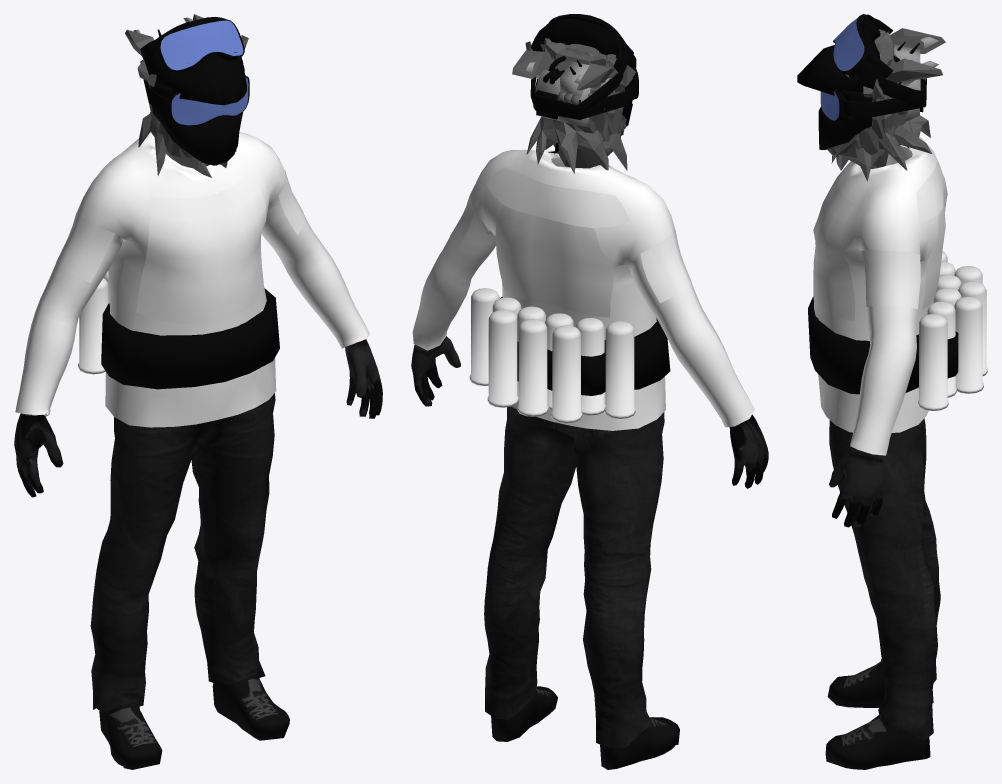
File: PlayerCharacter-Web-01.glb
3 renders of one model, left to right at view 1: azimuth 30°, elevation 25°; view 2: azimuth 150°, elevation 25°; view 3: azimuth 270°, elevation 25°, orthographic.
Parts seen in each view (by area): view 1: Body-Legs, Body-Torso, Front-Logo, Podpack-Belt, Mask-Lifted-Mask, Mask-Lifted-Lens, Mask-On-Mask, Right-Arm-Logo, Pod9, Mask-On-Lens, Octopus, Left-Arm-Logo; view 2: Body-Legs, Body-Torso, Back-Logo, Player-Name, Pod5, Pod6, Pod9, Pod7, Octopus, Right-Arm-Logo, Mask-Lifted-Lens, Antenna-Box (+11 smaller); view 3: Body-Legs, Body-Torso, Front-Logo, Podpack-Belt, Left-Arm-Logo, Pod8, Pod5, Mask-Lifted-Mask, Octopus, Mask-Lifted-Lens, Rabbit, Mask-On-Mask (+13 smaller).
Boxes of the visible parts, x1=… form: Body-Legs: x1=14, y1=339, x2=382, y2=769; Body-Torso: x1=15, y1=132, x2=369, y2=427; Front-Logo: x1=136, y1=173, x2=266, y2=323; Podpack-Belt: x1=101, y1=288, x2=279, y2=389; Mask-Lifted-Mask: x1=140, y1=17, x2=246, y2=105; Mask-Lifted-Lens: x1=157, y1=19, x2=244, y2=73; Mask-On-Mask: x1=150, y1=66, x2=244, y2=165; Right-Arm-Logo: x1=56, y1=213, x2=115, y2=282; Pod9: x1=78, y1=278, x2=108, y2=374; Mask-On-Lens: x1=168, y1=76, x2=249, y2=126; Octopus: x1=138, y1=112, x2=236, y2=177; Left-Arm-Logo: x1=278, y1=170, x2=304, y2=235; Body-Legs: x1=411, y1=336, x2=768, y2=769; Body-Torso: x1=412, y1=149, x2=754, y2=430; Back-Logo: x1=495, y1=205, x2=613, y2=317; Player-Name: x1=486, y1=167, x2=629, y2=228; Pod5: x1=487, y1=309, x2=518, y2=407; Pod6: x1=517, y1=319, x2=548, y2=416; Pod9: x1=604, y1=321, x2=635, y2=418; Pod7: x1=551, y1=325, x2=582, y2=423; Octopus: x1=526, y1=90, x2=627, y2=173; Right-Arm-Logo: x1=640, y1=230, x2=691, y2=302; Mask-Lifted-Lens: x1=547, y1=14, x2=633, y2=58; Antenna-Box: x1=535, y1=56, x2=595, y2=127; Body-Legs: x1=825, y1=418, x2=940, y2=769; Body-Torso: x1=813, y1=136, x2=944, y2=455; Front-Logo: x1=813, y1=161, x2=854, y2=320; Podpack-Belt: x1=808, y1=296, x2=918, y2=394; Left-Arm-Logo: x1=861, y1=250, x2=920, y2=308; Pod8: x1=918, y1=314, x2=948, y2=410; Pod5: x1=954, y1=296, x2=983, y2=393; Mask-Lifted-Mask: x1=797, y1=14, x2=893, y2=95; Octopus: x1=831, y1=99, x2=931, y2=181; Mask-Lifted-Lens: x1=833, y1=14, x2=880, y2=76; Rabbit: x1=886, y1=28, x2=945, y2=82; Mask-On-Mask: x1=818, y1=89, x2=872, y2=149.
Size of the model in its own units: 0.9455 by 1.86 by 0.4505.
Materials: 8 (2 with a texture image).
